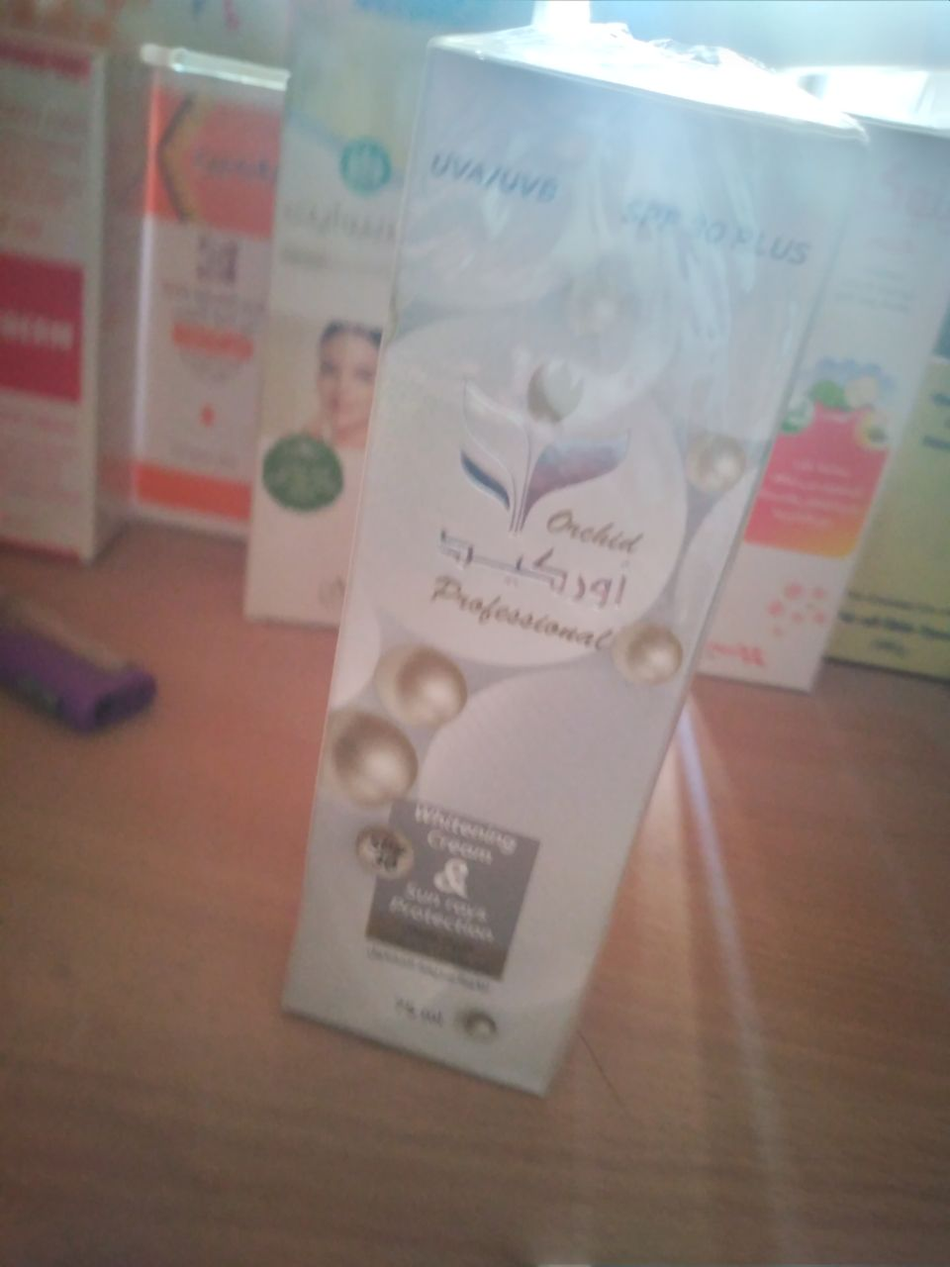Medicine: (267, 36, 920, 1115), (231, 30, 422, 627), (709, 221, 917, 683), (115, 69, 310, 535), (0, 10, 115, 581)
